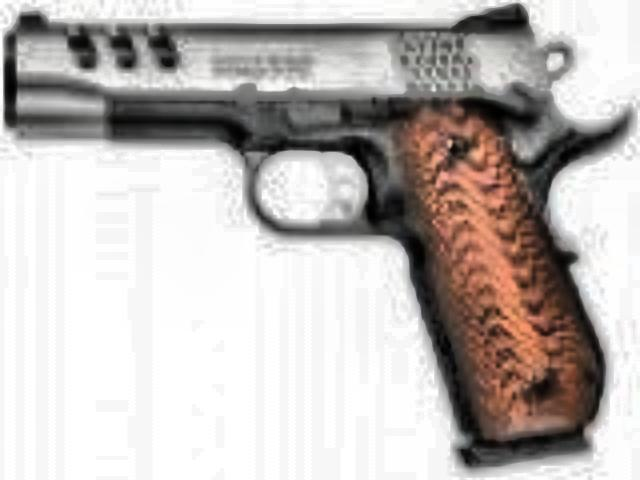pistol: (0, 4, 604, 448)
